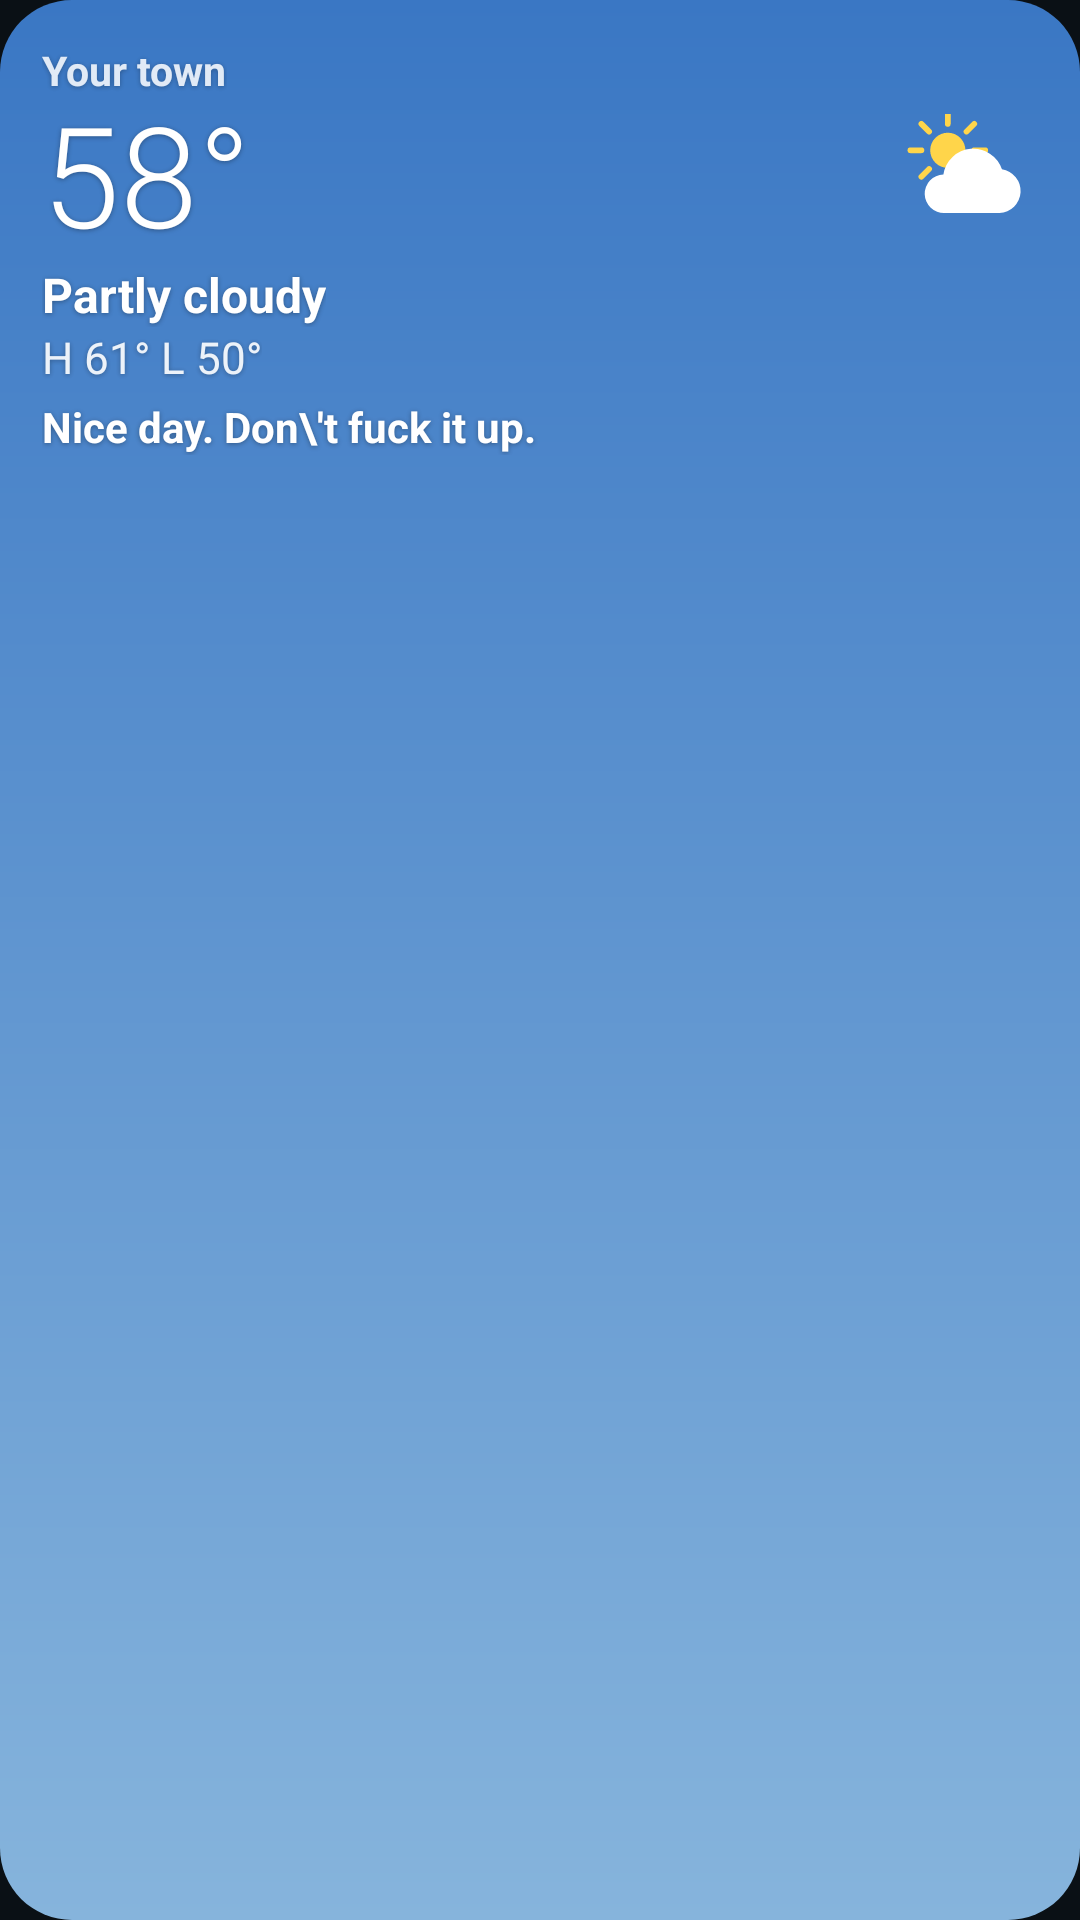

Where to tap for icons on this 1080×1920 app screen, as [x,y]:
wi pcloud: [964,163]
